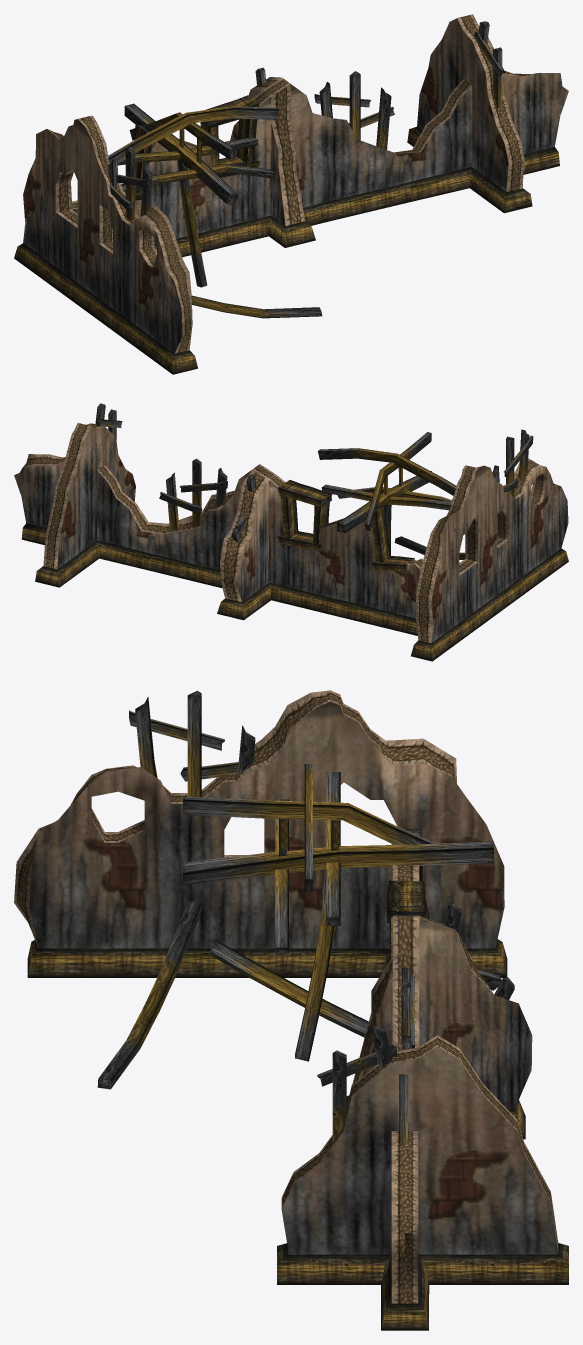
Rendered from CB_BRKN_BUILDING08.obj.
The picture shows the model from 3 angles, top to bottom: view 1: azimuth 30°, elevation 25°; view 2: azimuth 150°, elevation 25°; view 3: azimuth 270°, elevation 25°; orthographic projection. The views are drawn at different scales.
Visible parts, largest first — view 1: brkn_building08; view 2: brkn_building08; view 3: brkn_building08.
Boxes of the visible parts, x1=… form: brkn_building08: x1=14, y1=14, x2=568, y2=374; brkn_building08: x1=14, y1=403, x2=568, y2=661; brkn_building08: x1=14, y1=690, x2=568, y2=1330.
Size of the model in its own units: 4187 by 1482 by 2581.
